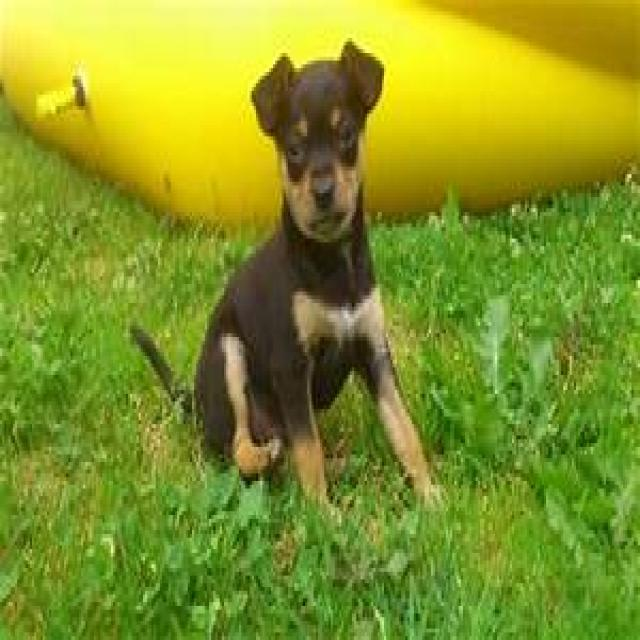animal: (128, 34, 446, 530)
